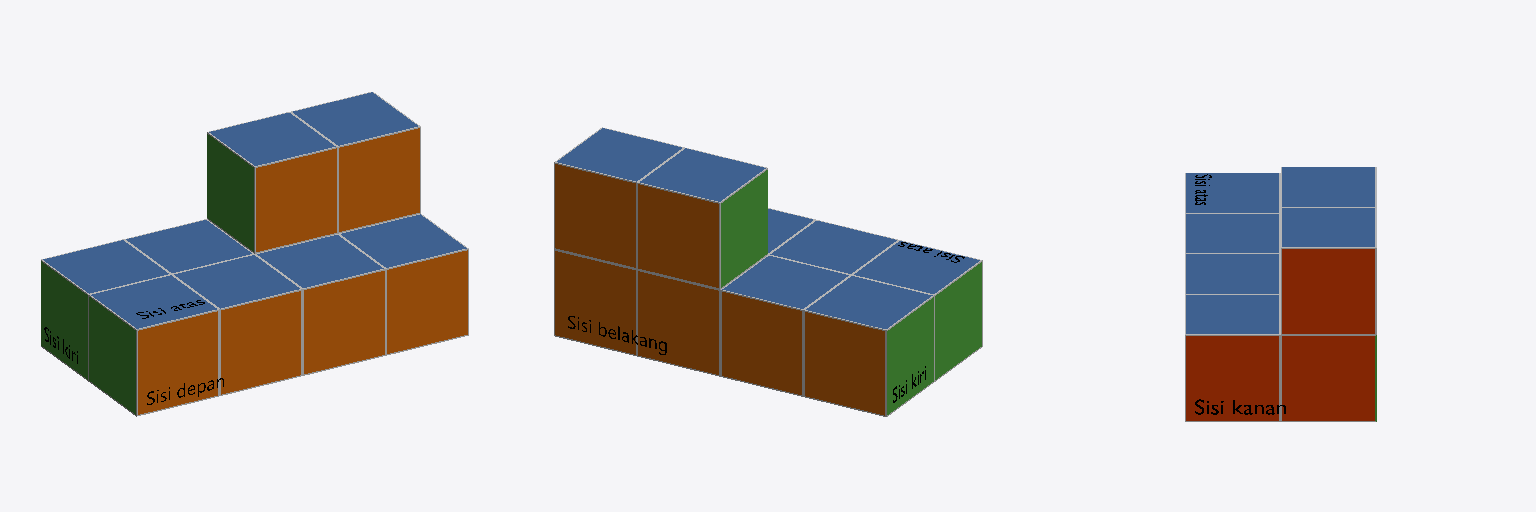
The model's file is bangun_teks.obj.
3 views of the same model, side by side, from view 1: azimuth 30°, elevation 25°; view 2: azimuth 150°, elevation 25°; view 3: azimuth 270°, elevation 25° (orthographic).
Visible parts, largest first — view 1: Cube.009_Cube.022; view 2: Cube.009_Cube.022; view 3: Cube.009_Cube.022.
Boxes of the visible parts, <box> form: Cube.009_Cube.022: <box>41,92,468,416</box>; Cube.009_Cube.022: <box>554,127,982,416</box>; Cube.009_Cube.022: <box>1185,167,1376,421</box>.
Size of the model in its own units: 4.05 by 2.04 by 2.05.